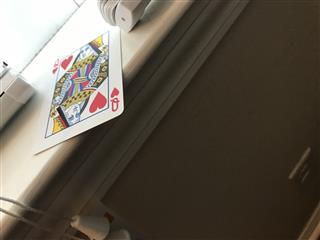QueenOfHearts: (32, 24, 124, 155)
